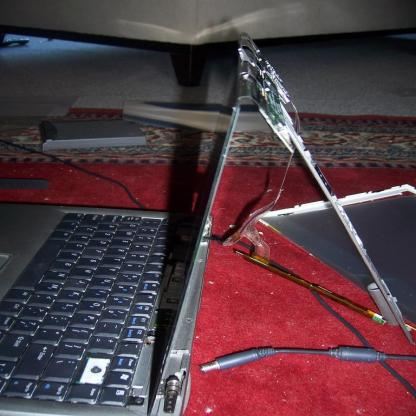board: (0, 40, 300, 406)
